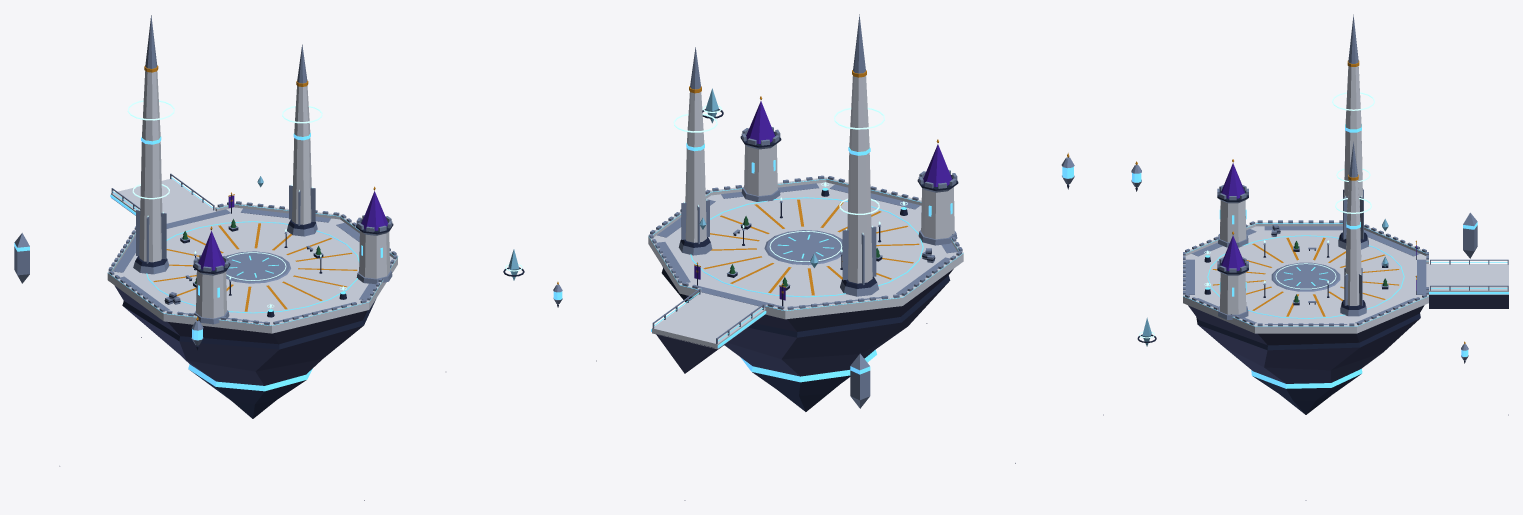
Rendered from chunk_entry.fbx.
3 views of the same model, side by side, from view 1: azimuth 30°, elevation 25°; view 2: azimuth 150°, elevation 25°; view 3: azimuth 270°, elevation 25° (orthographic). The views are drawn at different scales.
Visible parts, largest first — view 1: chunk_entry; view 2: chunk_entry; view 3: chunk_entry.
Part boxes in pixels (x1,y1,x2,y2): chunk_entry: (14, 15, 524, 500); chunk_entry: (553, 14, 1074, 500); chunk_entry: (1103, 14, 1508, 500).
Size of the model in its own units: 256 by 256 by 256.
